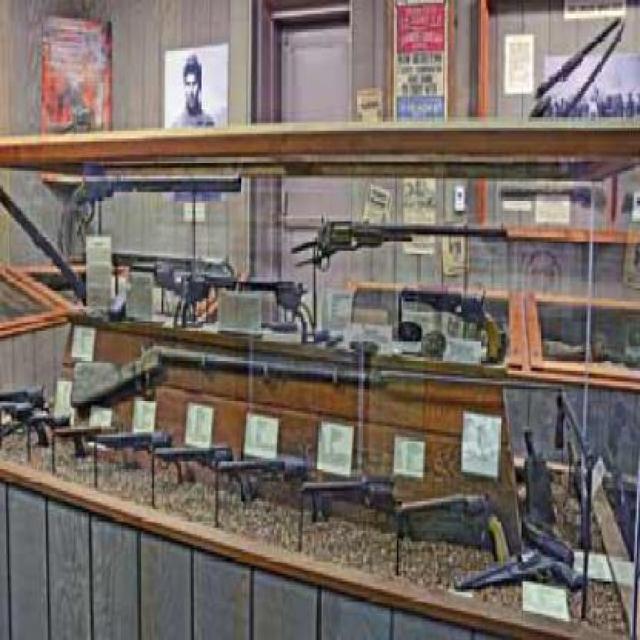gun: (386, 464, 512, 587), (225, 429, 318, 563), (298, 452, 407, 566), (156, 408, 252, 528), (225, 246, 327, 352), (96, 416, 192, 507), (1, 366, 44, 460)
